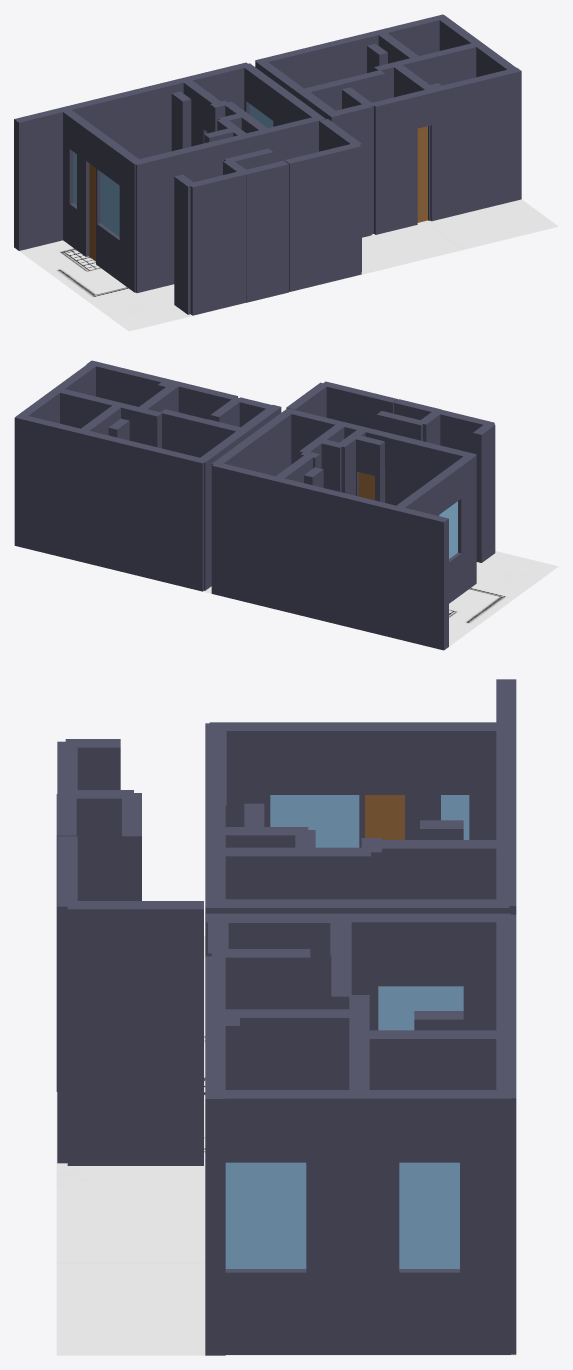
3 renders of one model, top to bottom at view 1: azimuth 30°, elevation 25°; view 2: azimuth 150°, elevation 25°; view 3: azimuth 270°, elevation 25°, orthographic. The views are drawn at different scales.
Visible parts, largest first — view 1: wall, FloorPlan, Door, Window; view 2: wall, FloorPlan, Window, Door; view 3: wall, FloorPlan, Window, Door.
Part boxes in pixels (left/top/right/bottom): wall: left=14, top=14, right=521, bottom=315; FloorPlan: left=19, top=199, right=558, bottom=331; Door: left=89, top=126, right=427, bottom=260; Window: left=73, top=104, right=273, bottom=236; wall: left=14, top=360, right=495, bottom=650; FloorPlan: left=14, top=545, right=558, bottom=646; Window: left=439, top=501, right=457, bottom=558; Door: left=358, top=469, right=385, bottom=502; wall: left=56, top=679, right=516, bottom=1355; FloorPlan: left=56, top=936, right=516, bottom=1355; Window: left=225, top=795, right=469, bottom=1268; Door: left=365, top=795, right=404, bottom=839.
Size of the model in its own units: 9.82 by 2.8 by 4.55.
Materials: 4 (1 with a texture image).
